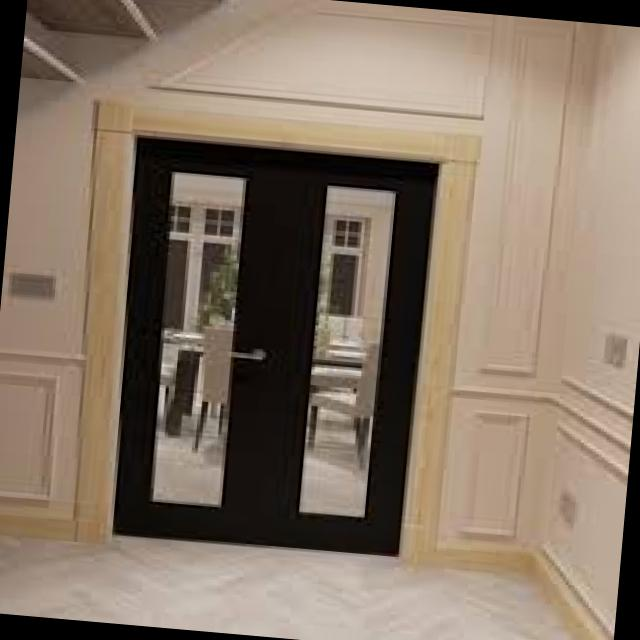door: (72, 100, 481, 570)
